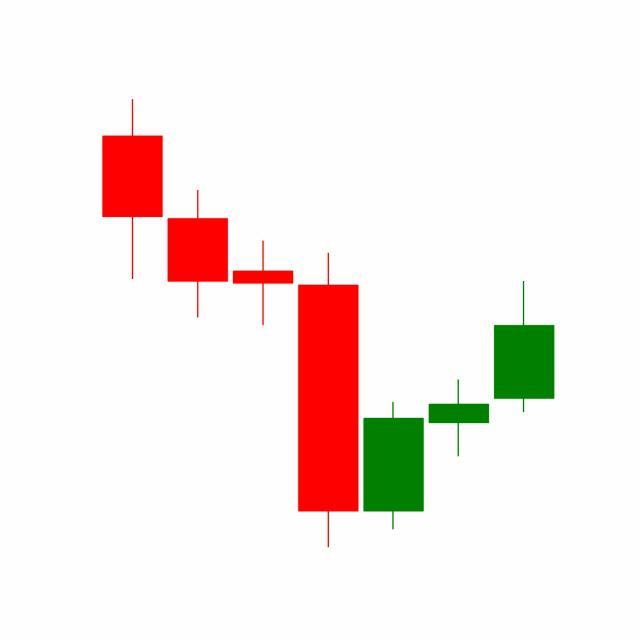Hikkake Pattern: (165, 186, 492, 549)
